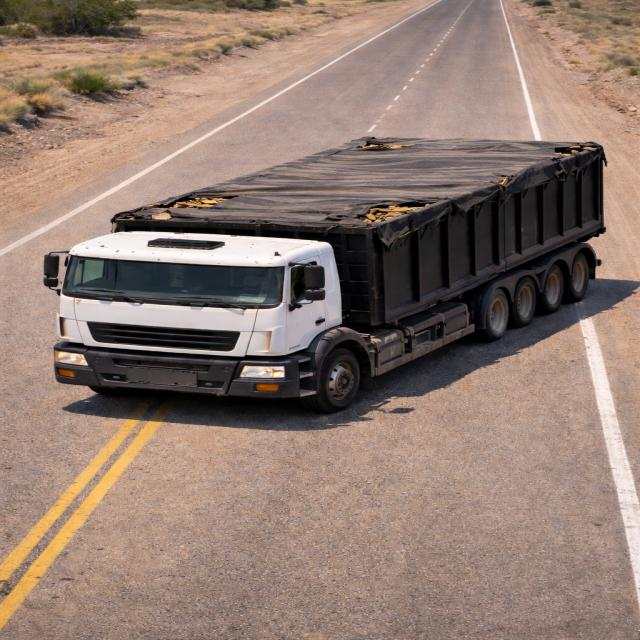Box: (108, 134, 606, 224)
Truck: (39, 118, 627, 408)
